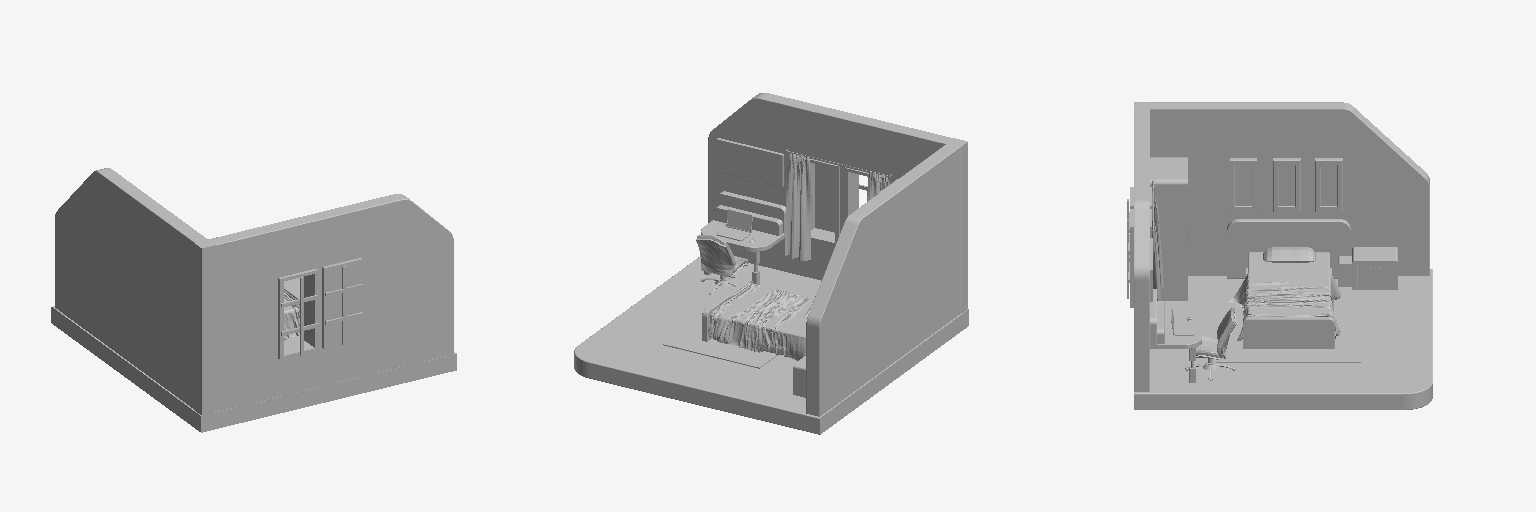
File: Room62.obj
3 renders of one model, left to right at view 1: azimuth 30°, elevation 25°; view 2: azimuth 150°, elevation 25°; view 3: azimuth 270°, elevation 25°, orthographic.
Parts seen in each view (by area): view 1: Room6.001; view 2: Room6.001; view 3: Room6.001.
Boxes of the visible parts, x1=… form: Room6.001: x1=51, y1=168, x2=456, y2=432; Room6.001: x1=574, y1=93, x2=968, y2=434; Room6.001: x1=1127, y1=102, x2=1432, y2=409.
Size of the model in its own units: 22.1 by 15.16 by 22.85.